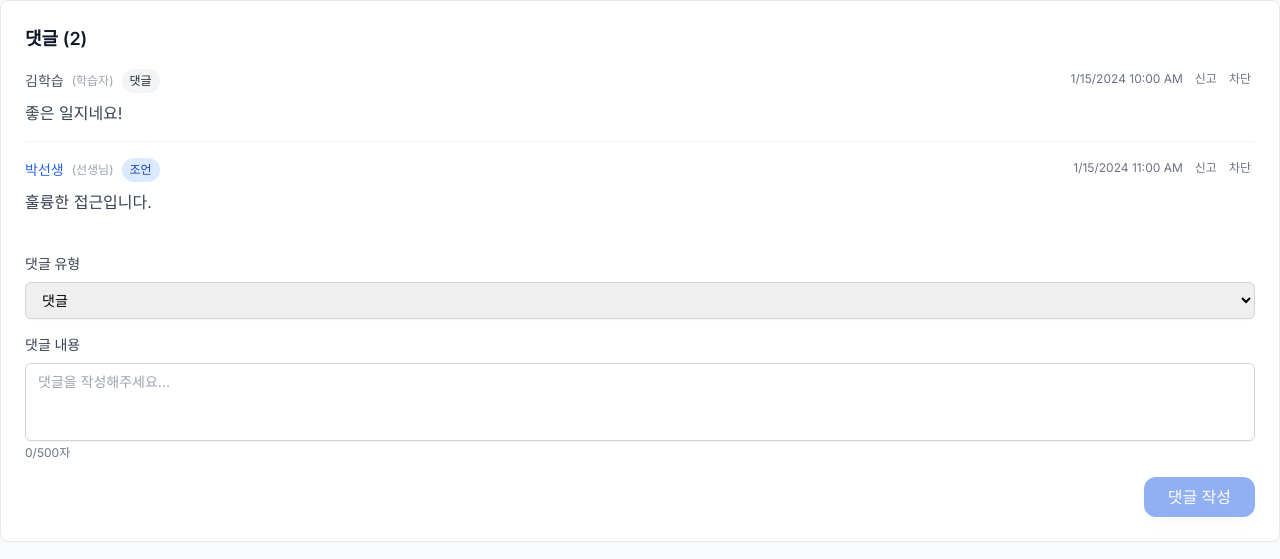
CommentSection › validates comment content
Expected: the button "댓글 작성" is disabled, [1144,477,1255,517]
Add some content to enable button, then clear it
In the text box labelled "댓글 내용": (640, 402) [25,363,1255,441], type "test content"
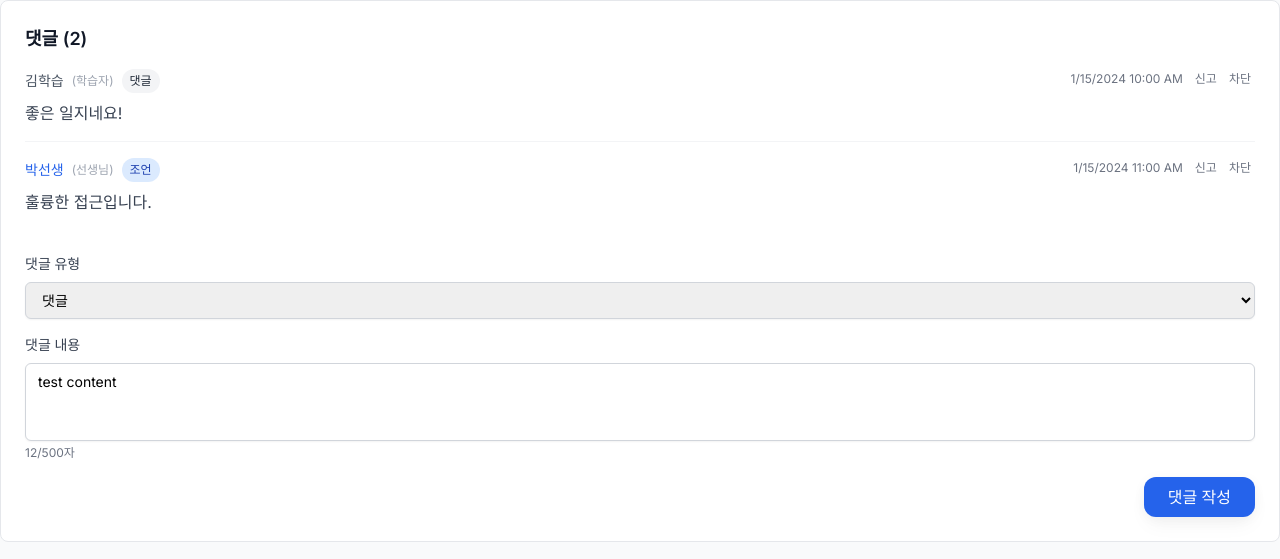
Expected: the button "댓글 작성" is enabled, [1144,477,1255,517]
Clear the content
Clear the text box labelled "댓글 내용": (640, 402) [25,363,1255,441]
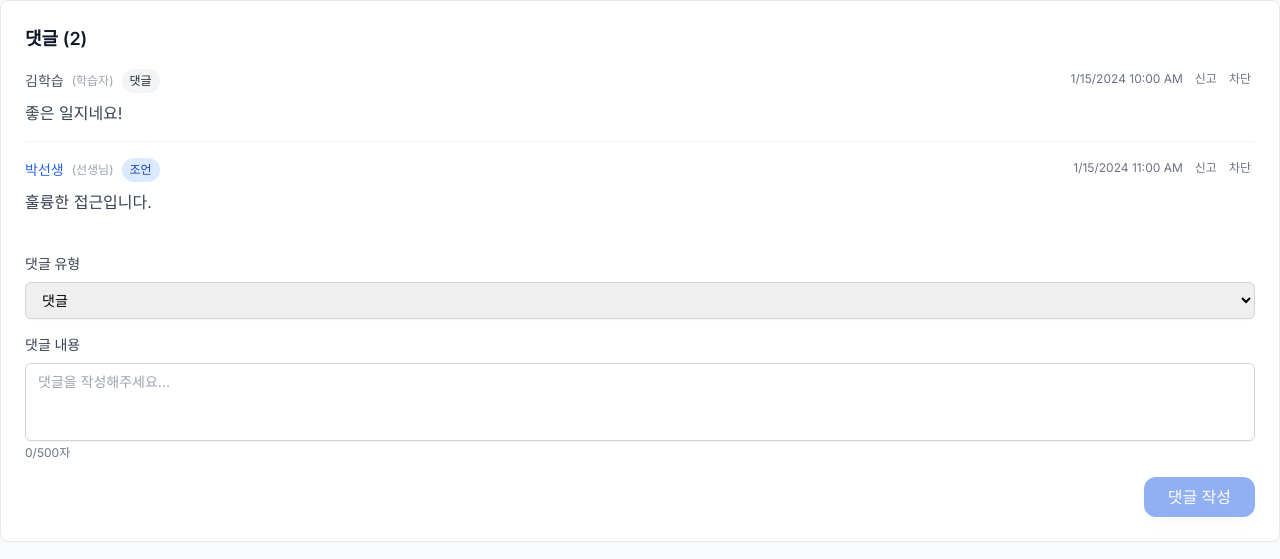
Expected: the button "댓글 작성" is disabled, [1144,477,1255,517]
